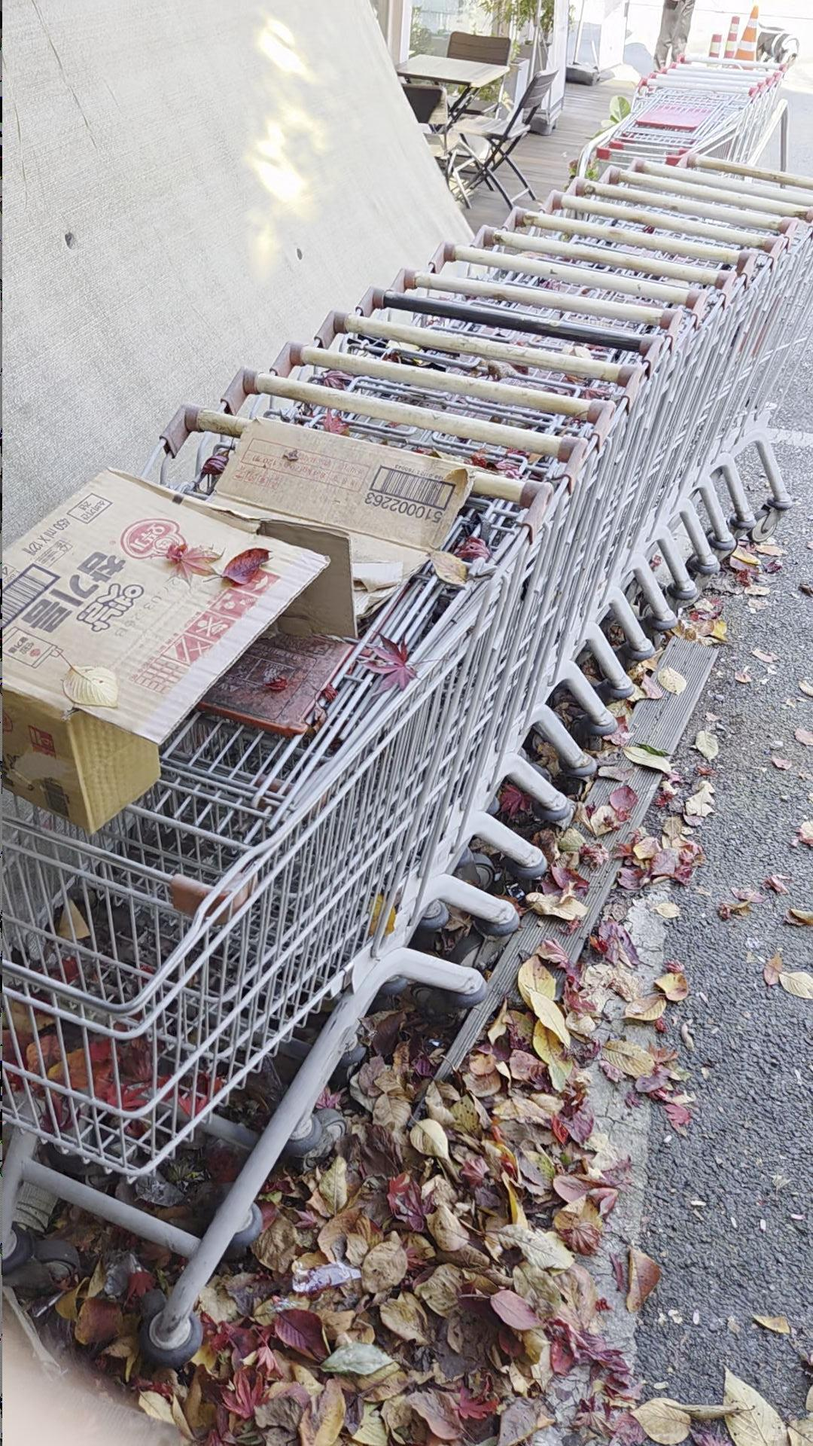combined_cart: (0, 151, 812, 1364), (577, 53, 804, 196)
